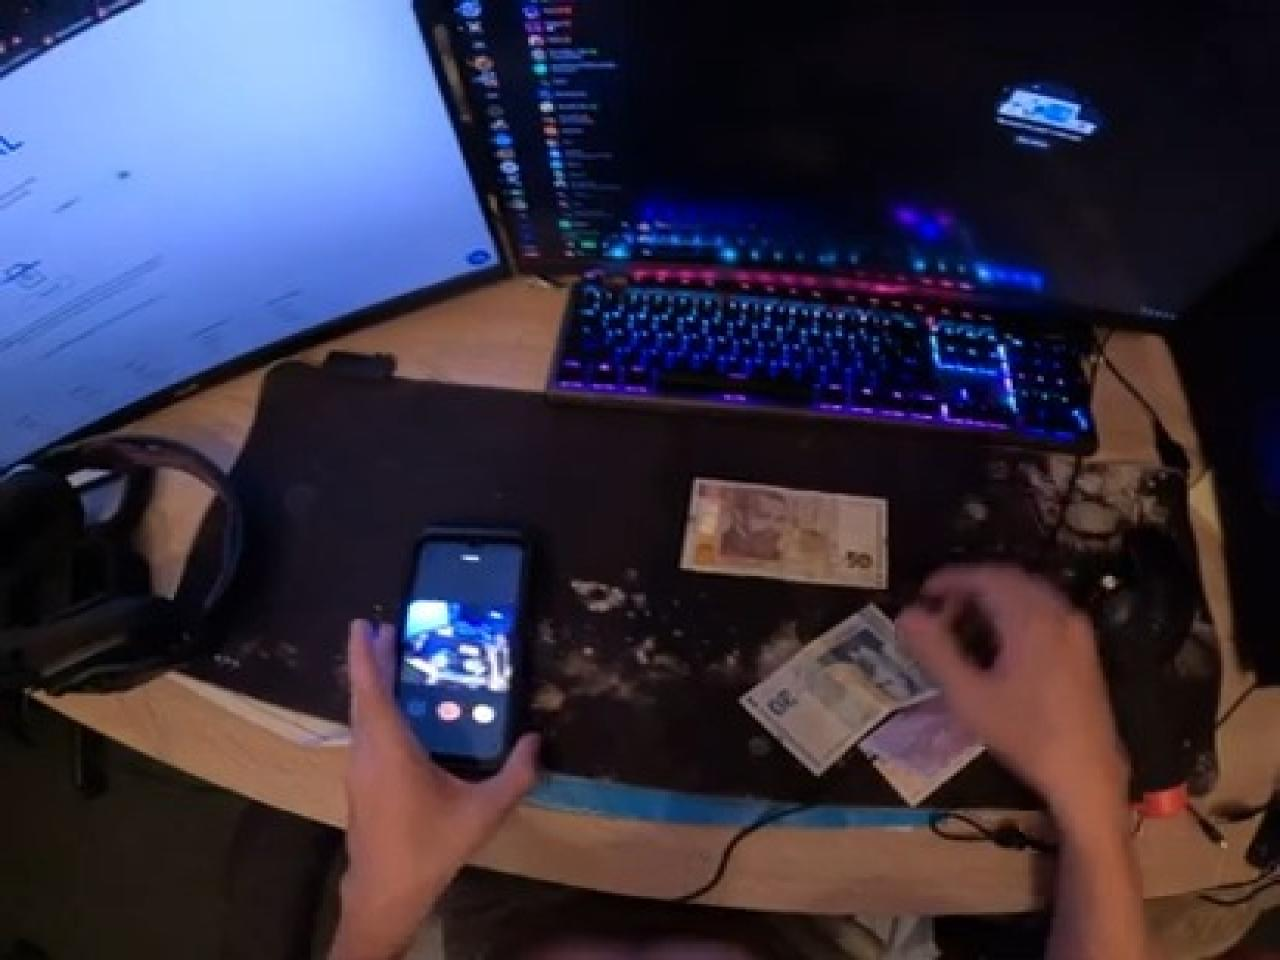50leva: (677, 480, 889, 597)
